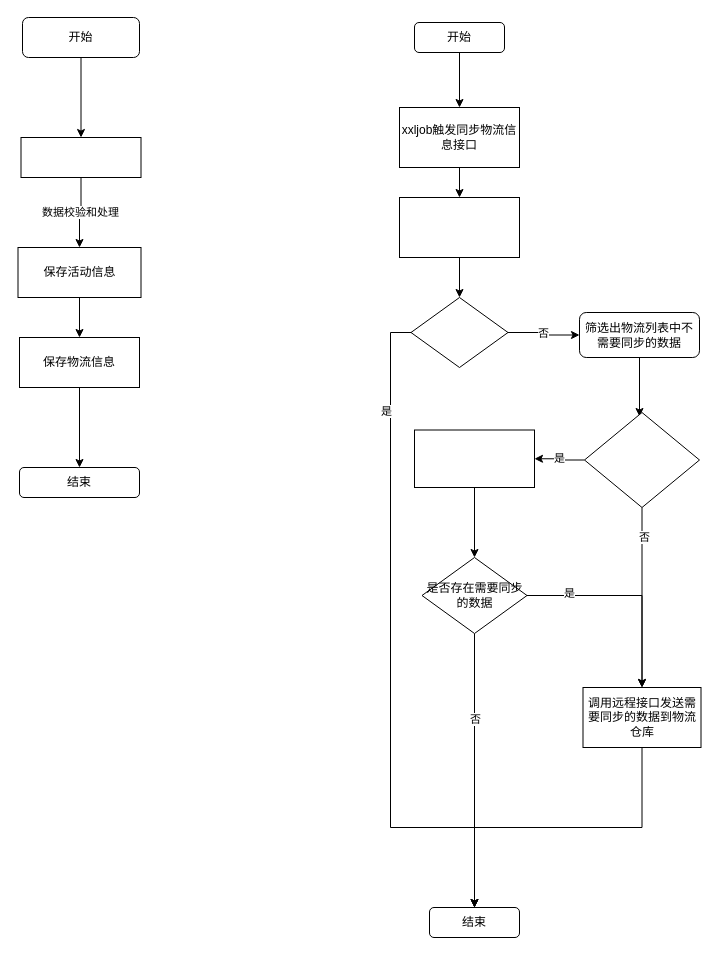
This 718x955 diagram has some shape labels left out. The centre of each missing label's shape, as x and y in pixels:
修改不需要同步的数据的物流状态，取消同步: point 474,458
列表是否为空: point 459,332
创建指定派发活动: point 80,157
数据库查询对应物流信息列表: point 459,227
是否存在不需要同步的数据: point 642,460
